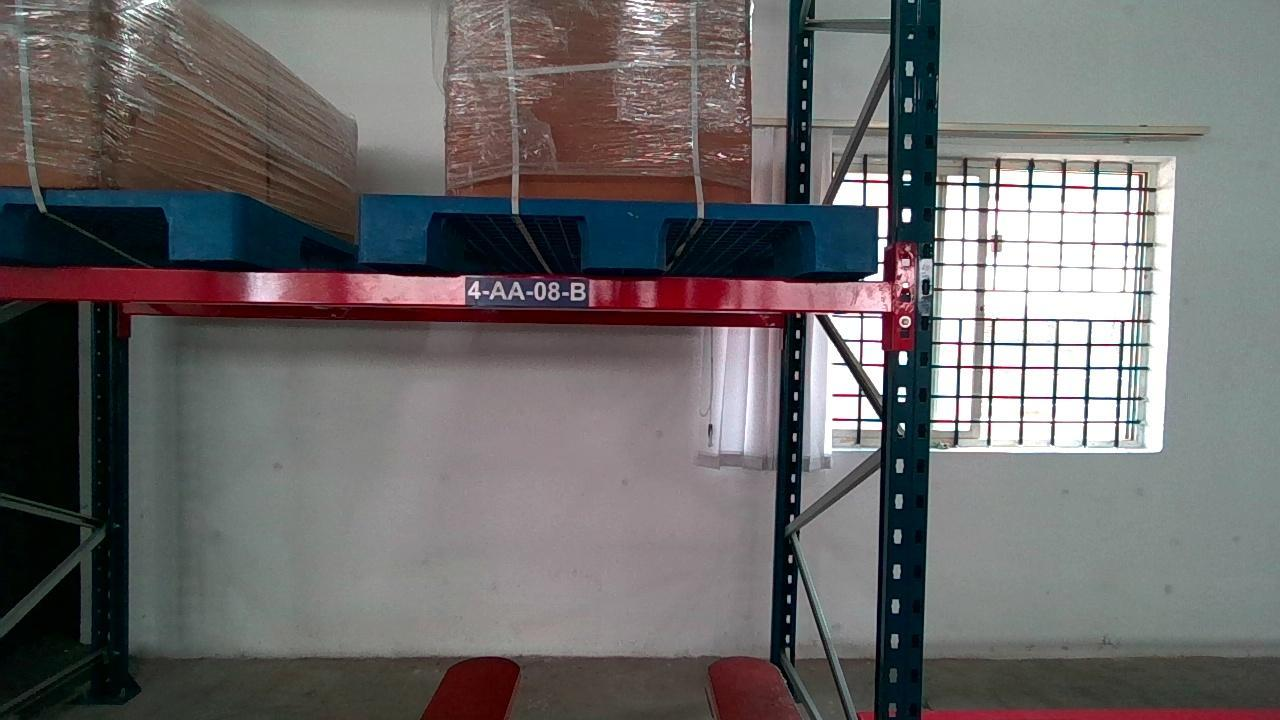h_rack: (0, 262, 901, 310)
small_pallet: (361, 191, 876, 269)
